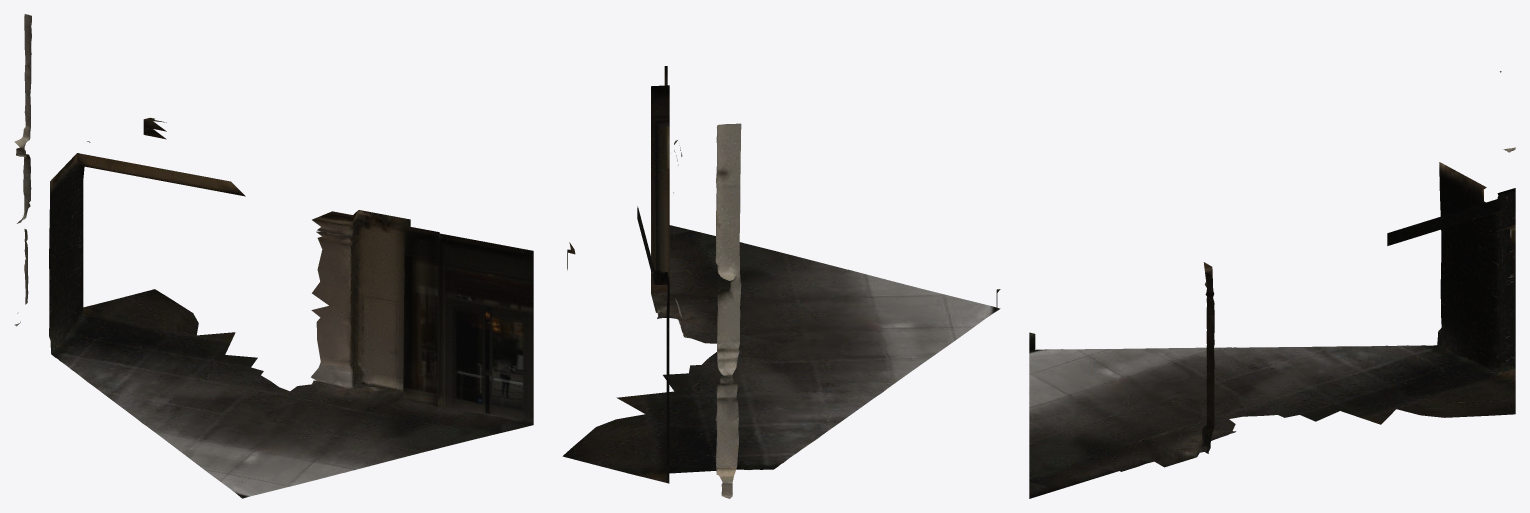
The picture shows the model from 3 angles, left to right: view 1: azimuth 30°, elevation 25°; view 2: azimuth 150°, elevation 25°; view 3: azimuth 270°, elevation 25°; orthographic projection. The views are drawn at different scales.
Size of the model in its own units: 8.34 by 8.63 by 11.3.
Materials: 1 (1 with a texture image).
